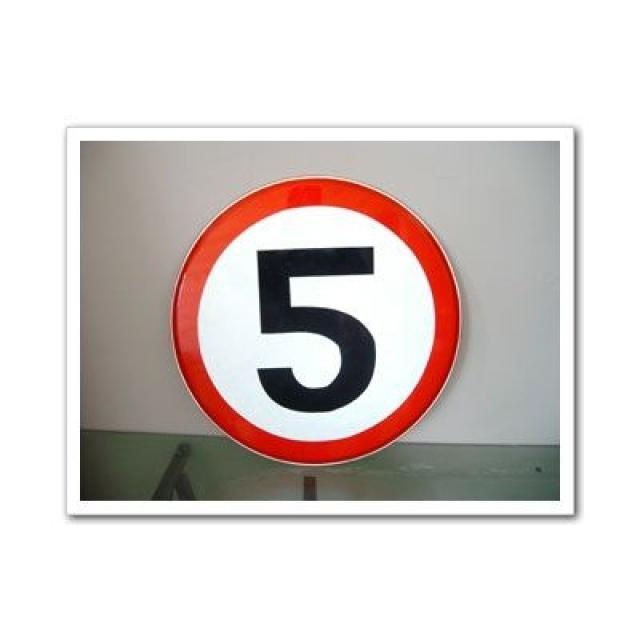speed limit 10: (167, 175, 463, 467)
